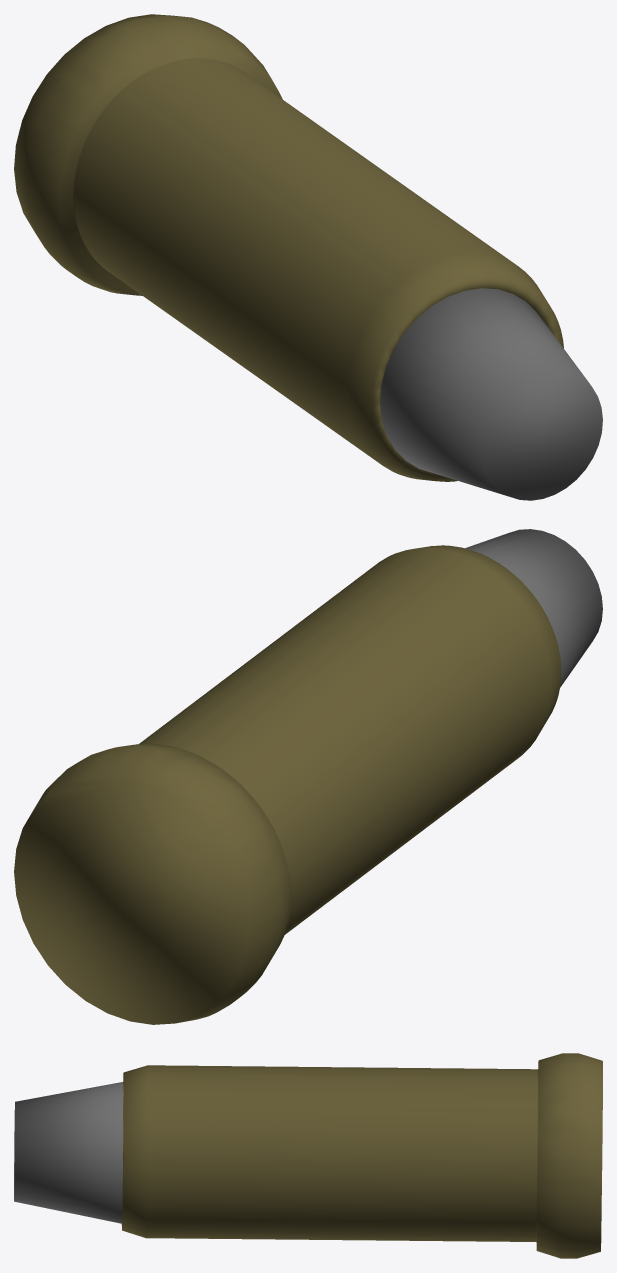
The model's file is pistol_bullet.fbx.
The picture shows the model from 3 angles, top to bottom: view 1: azimuth 30°, elevation 25°; view 2: azimuth 150°, elevation 25°; view 3: azimuth 270°, elevation 25°; orthographic projection. The views are drawn at different scales.
Visible parts, largest first — view 1: Casing, Bullet; view 2: Casing, Bullet; view 3: Casing, Bullet.
Part boxes in pixels (<box>): Casing: <box>14,14,563,481</box>; Bullet: <box>380,288,602,500</box>; Casing: <box>14,545,561,1024</box>; Bullet: <box>465,529,602,687</box>; Casing: <box>121,1053,602,1258</box>; Bullet: <box>14,1082,123,1223</box>.
Size of the model in its own units: 1.89 by 1.94 by 5.53.
